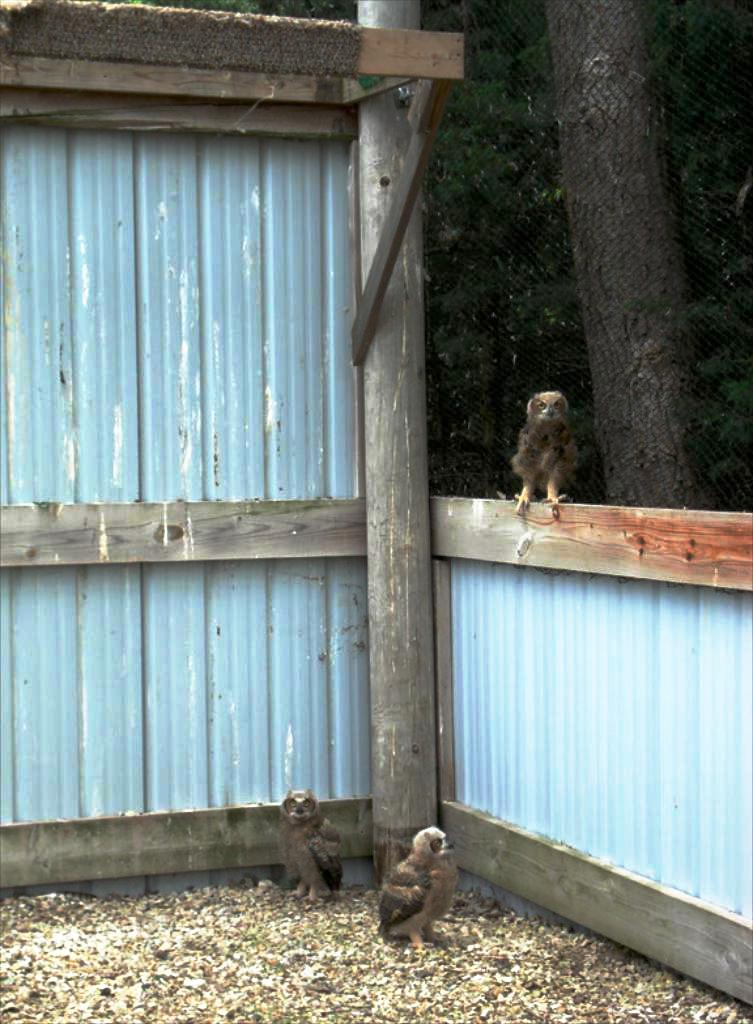Owl: (376, 824, 460, 948), (508, 394, 584, 520), (278, 788, 350, 904)
